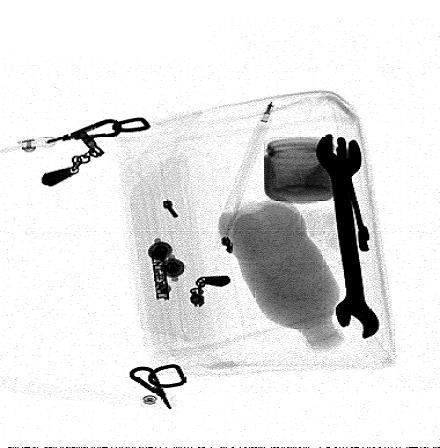Wrench: (315, 134, 380, 338), (335, 135, 370, 252)
